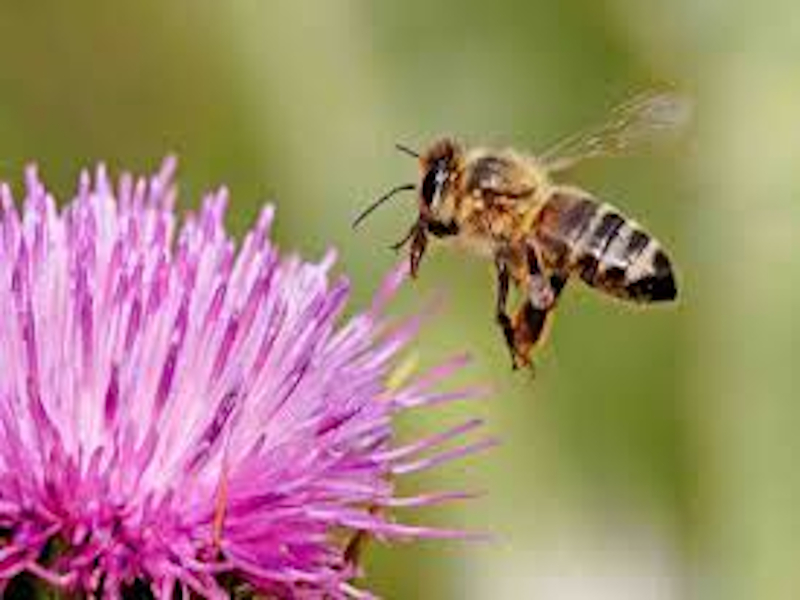abeja: (362, 64, 727, 395)
